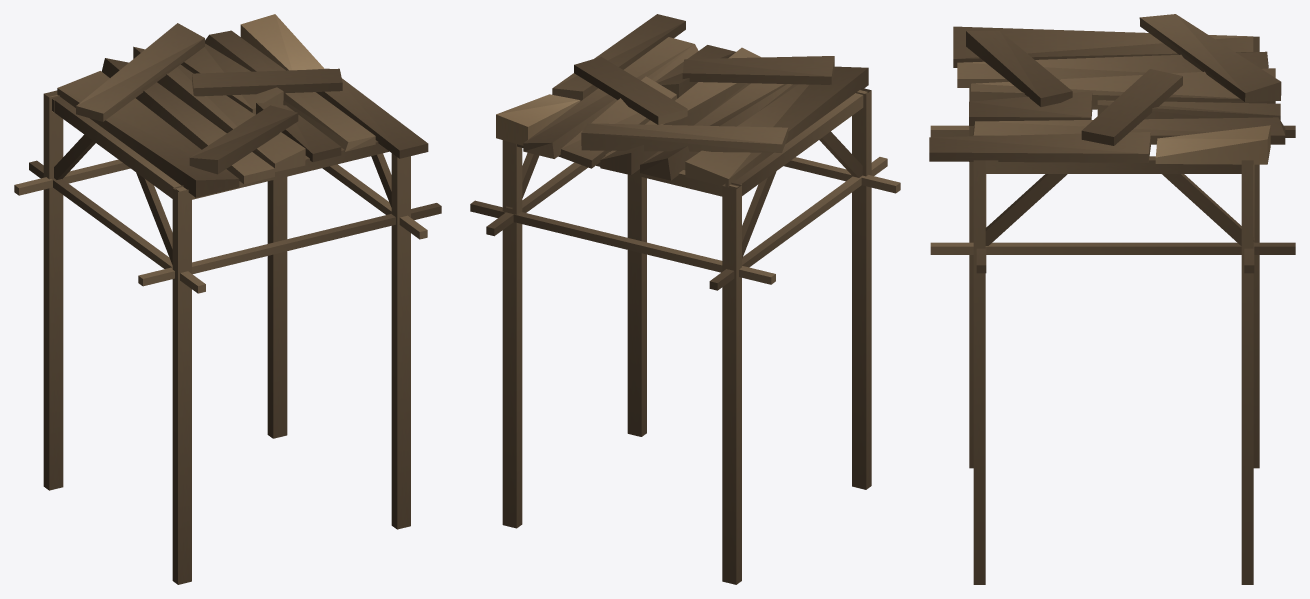
The model's file is ZLP_Build_D_50.FBX.
3 renders of one model, left to right at view 1: azimuth 30°, elevation 25°; view 2: azimuth 150°, elevation 25°; view 3: azimuth 270°, elevation 25°, orthographic. The views are drawn at different scales.
Parts seen in each view (by area): view 1: ZLP_Build_D_50; view 2: ZLP_Build_D_50; view 3: ZLP_Build_D_50.
Boxes of the visible parts, left/top/right/bottom form: ZLP_Build_D_50: left=14, top=14, right=441, bottom=584; ZLP_Build_D_50: left=470, top=14, right=900, bottom=584; ZLP_Build_D_50: left=929, top=14, right=1295, bottom=584.
Bounding box in the file's own units: 244 × 328 × 240.
